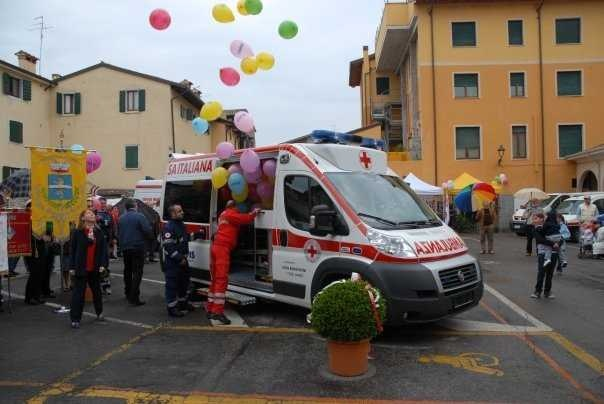Ambulance: (142, 130, 469, 346)
